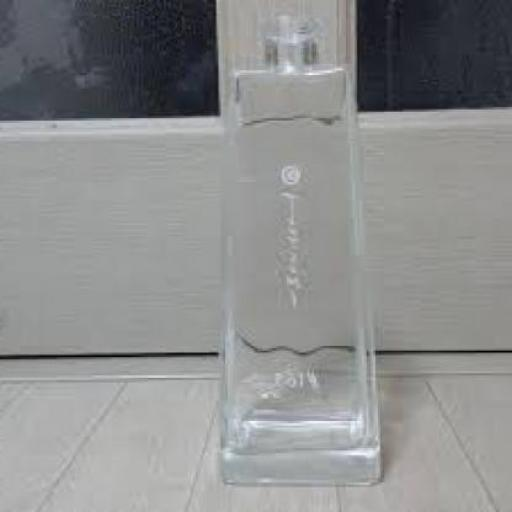glass: (218, 18, 384, 485)
